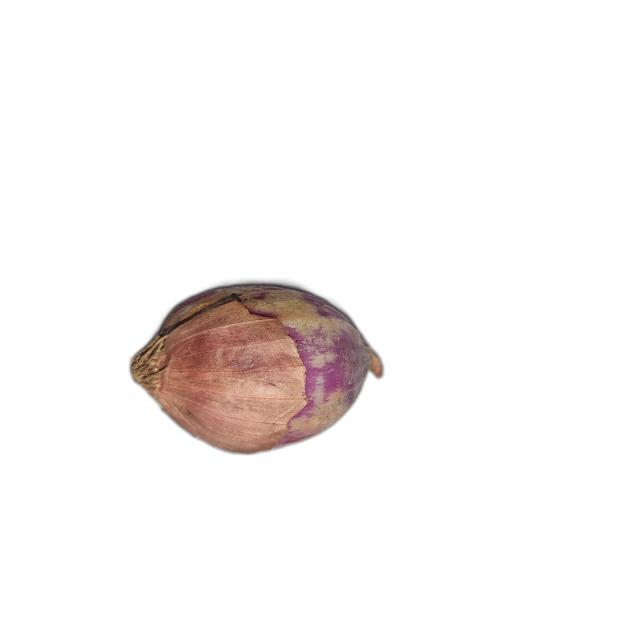onion: (128, 283, 385, 455)
